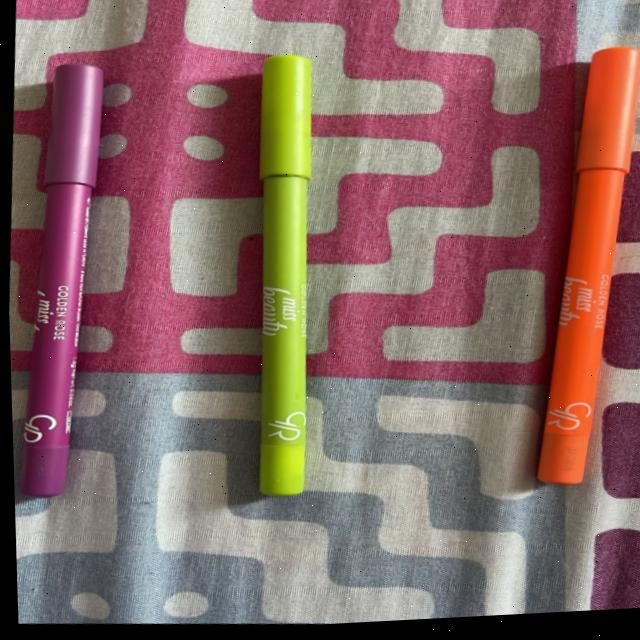eye liner: (1, 31, 152, 513)
lip liner: (224, 53, 361, 516), (513, 30, 640, 501)
